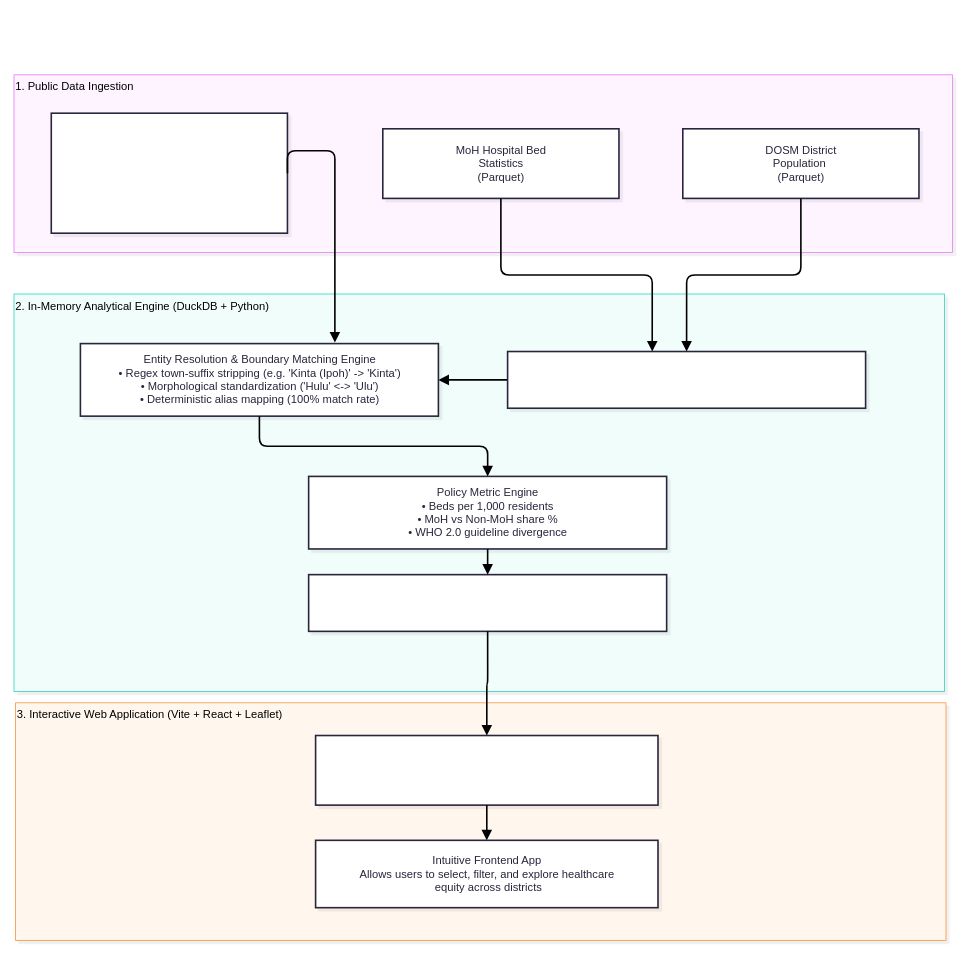
Some shapes in this 970 by 958 pixel diagram are drawn without their labels. Each missing label, with the centre of its shape:
"ADM2 District Boundaries (GeoJSON)" belongs at [170,174].
"Direct Vectorized Parquet Scan via HTTPS (Zero Database Server Overhead)" belongs at [687,381].
"Full Spatial Outer Join Preserving 100% of all 159 districts (Zero gaps)" belongs at [488,604].
"Optimized Spatial GeoJSON districts_healthcare.geojson" belongs at [488,771].
